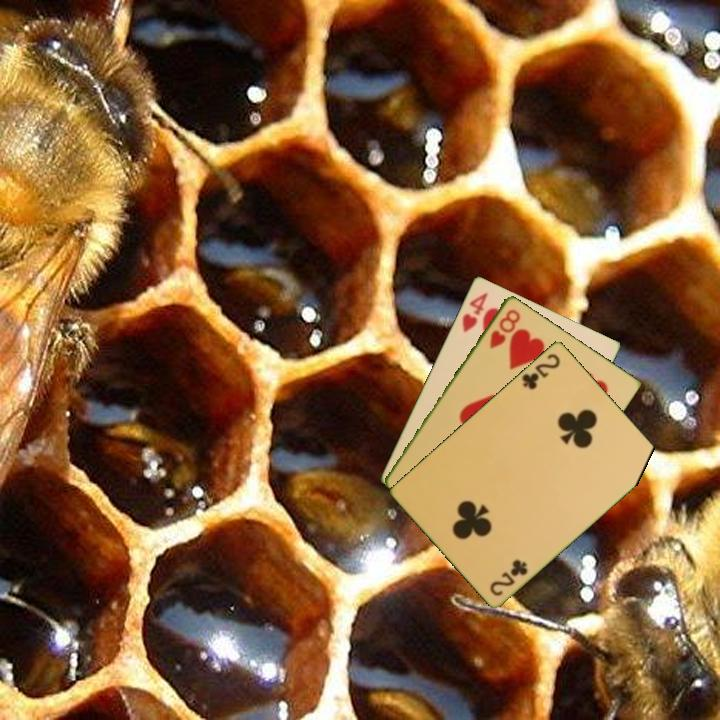2c: (486, 555, 531, 598), (518, 350, 563, 392)
4h: (458, 288, 490, 335)
8h: (486, 305, 523, 351)
